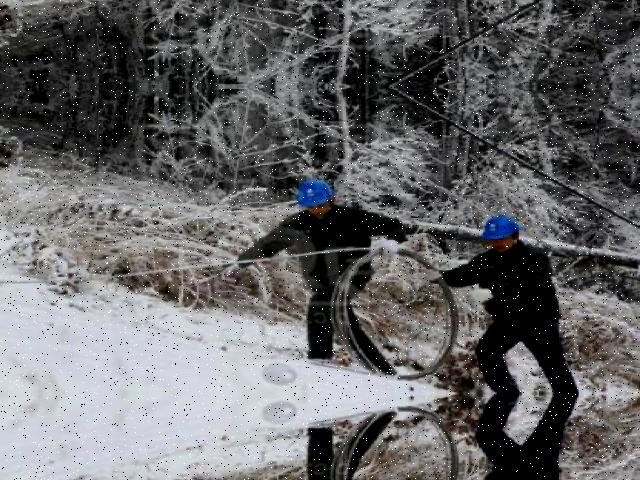Helmet: (292, 176, 340, 212), (478, 211, 528, 243)
